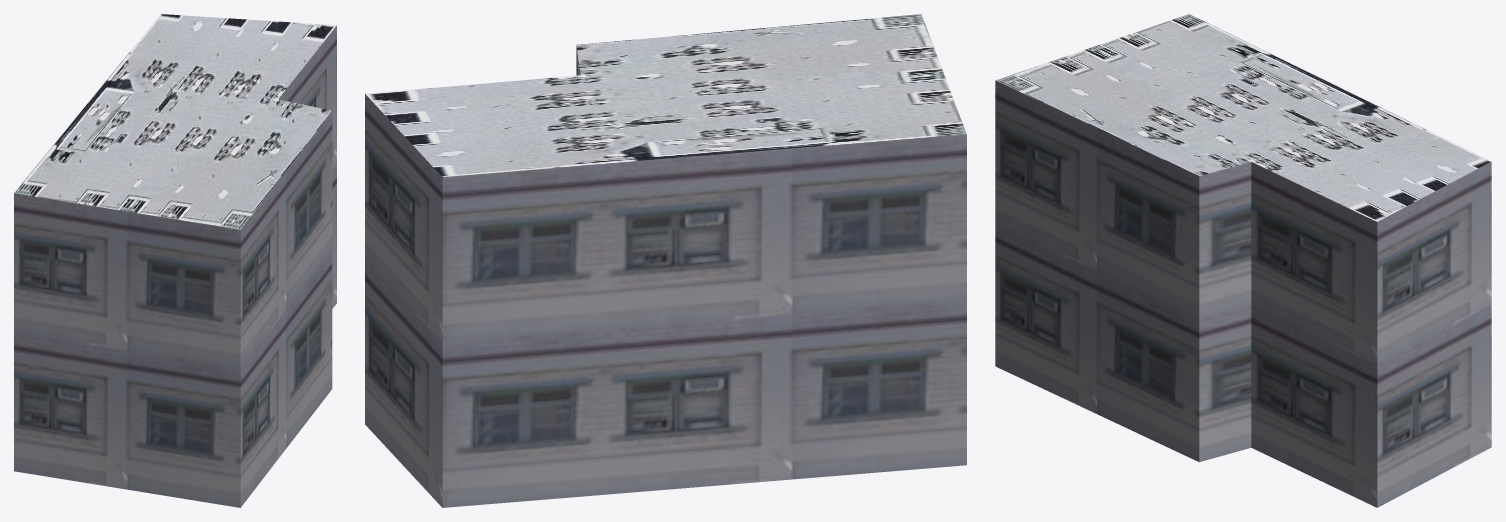
File: ResTex__3491.fbx
3 views of the same model, side by side, from view 1: azimuth 30°, elevation 25°; view 2: azimuth 150°, elevation 25°; view 3: azimuth 270°, elevation 25° (orthographic). The views are drawn at different scales.
Parts seen in each view (by area): view 1: CityEngineMaterial_1_m, CityEngineMaterial_4_m; view 2: CityEngineMaterial_1_m, CityEngineMaterial_4_m; view 3: CityEngineMaterial_1_m, CityEngineMaterial_4_m.
Boxes of the visible parts, bbox=[...] form: CityEngineMaterial_1_m: bbox=[14, 25, 336, 507]; CityEngineMaterial_4_m: bbox=[14, 14, 336, 229]; CityEngineMaterial_1_m: bbox=[365, 45, 966, 507]; CityEngineMaterial_4_m: bbox=[365, 14, 966, 176]; CityEngineMaterial_1_m: bbox=[995, 80, 1491, 507]; CityEngineMaterial_4_m: bbox=[996, 14, 1490, 221].
Bounding box in the file's own units: 9.36 × 6 × 9.43.
Materials: 2 (2 with a texture image).
